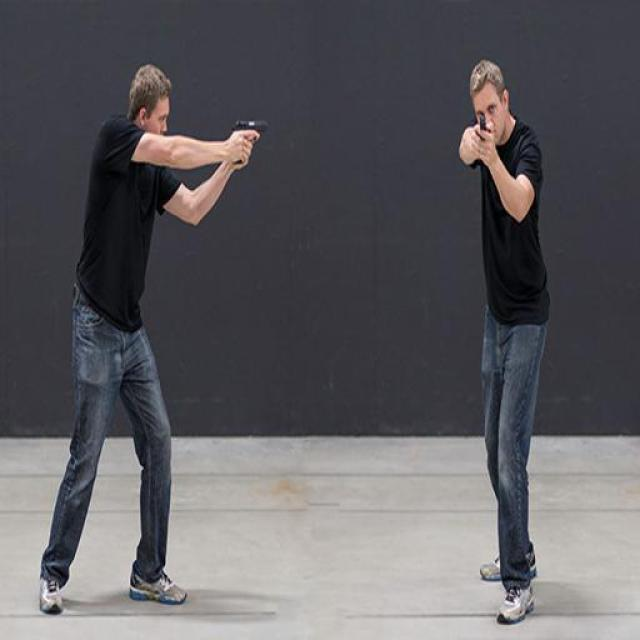pistol: (220, 115, 274, 161), (470, 107, 489, 156)
